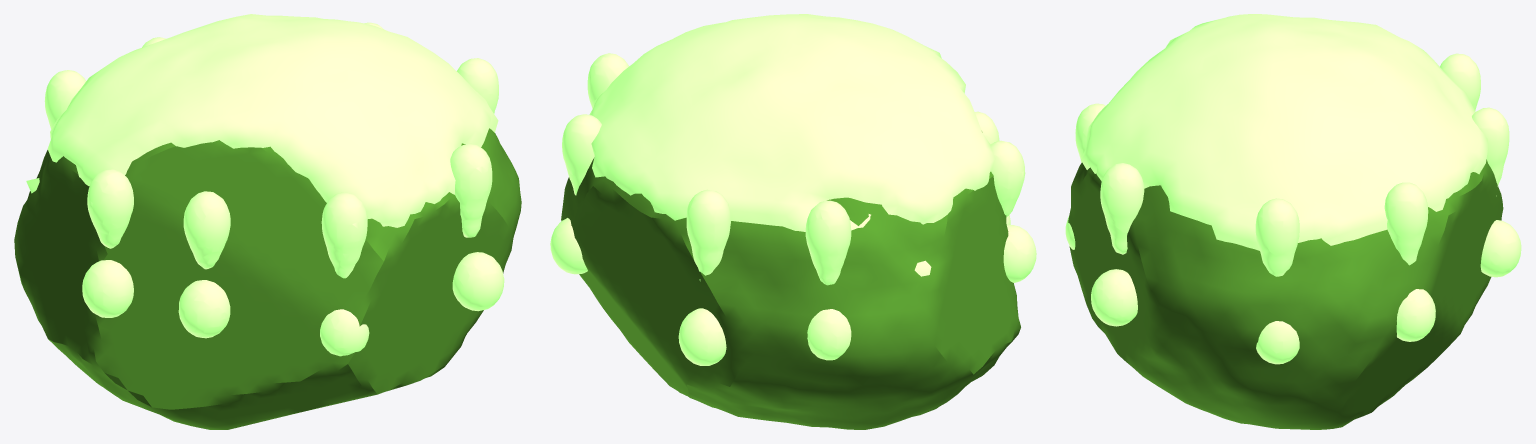
Rendered from RockToxic.fbx.
3 renders of one model, left to right at view 1: azimuth 30°, elevation 25°; view 2: azimuth 150°, elevation 25°; view 3: azimuth 270°, elevation 25°, orthographic. The views are drawn at different scales.
Visible parts, largest first — view 1: RockToxic_Shade, RockToxic_Glow; view 2: RockToxic_Glow, RockToxic_Shade; view 3: RockToxic_Glow, RockToxic_Shade.
Part boxes in pixels (x1=…): RockToxic_Shade: x1=14, y1=128, x2=521, y2=429; RockToxic_Glow: x1=26, y1=14, x2=504, y2=356; RockToxic_Glow: x1=550, y1=14, x2=1036, y2=365; RockToxic_Shade: x1=561, y1=132, x2=1020, y2=429; RockToxic_Glow: x1=1065, y1=14, x2=1521, y2=364; RockToxic_Shade: x1=1068, y1=159, x2=1503, y2=429.
Size of the model in its own units: 221 by 175 by 205.
